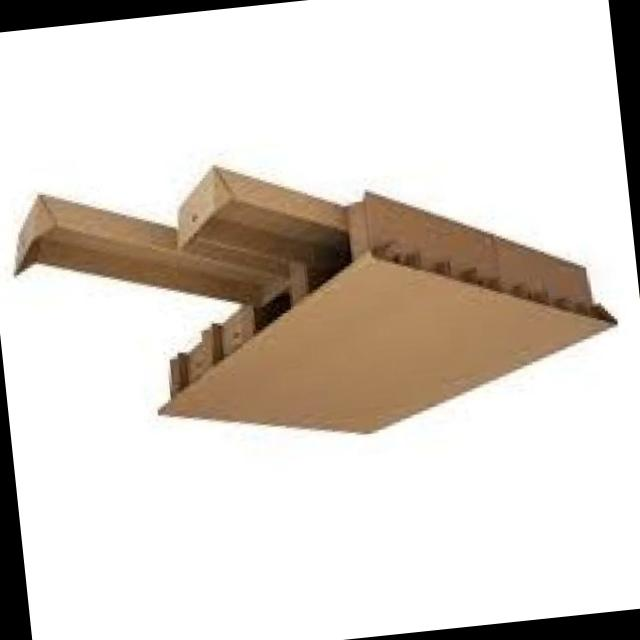cardboard paper: (19, 169, 616, 434)
